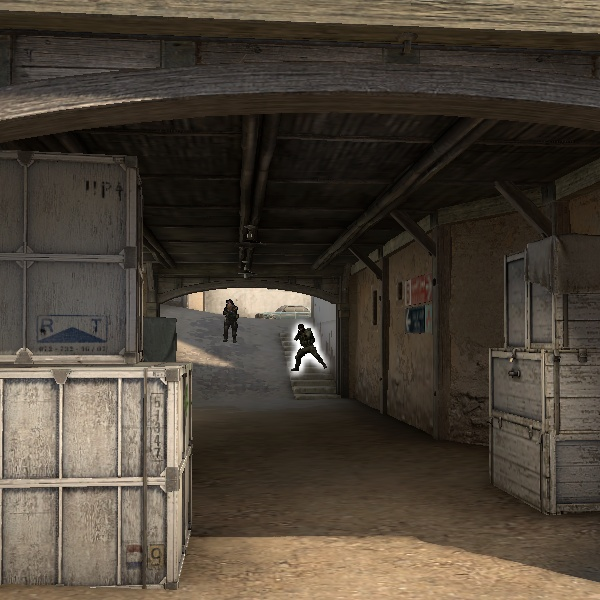ct_body: (291, 320, 325, 371), (219, 296, 241, 345)
ct_head: (225, 297, 236, 309), (296, 323, 306, 333)
